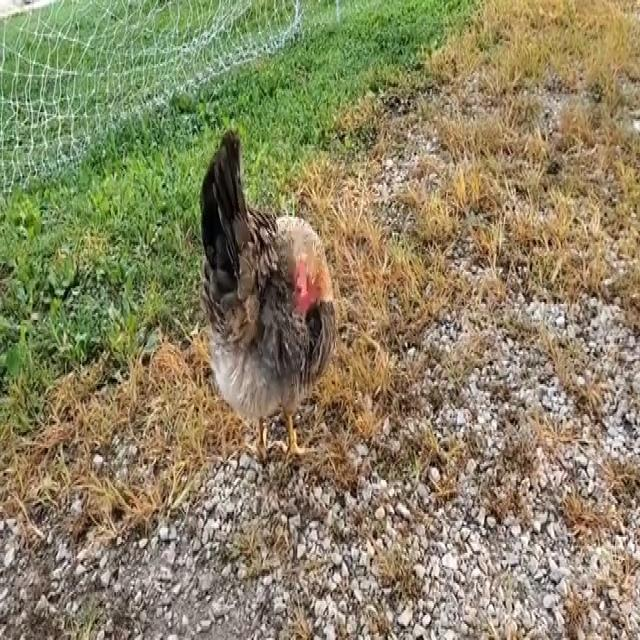self preening: (191, 98, 340, 468)
